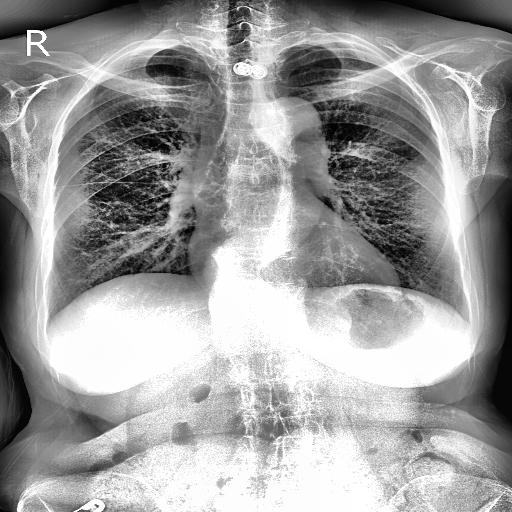0- Aortic enlargement: (256, 95, 328, 160), (250, 98, 330, 152), (270, 96, 324, 142)
